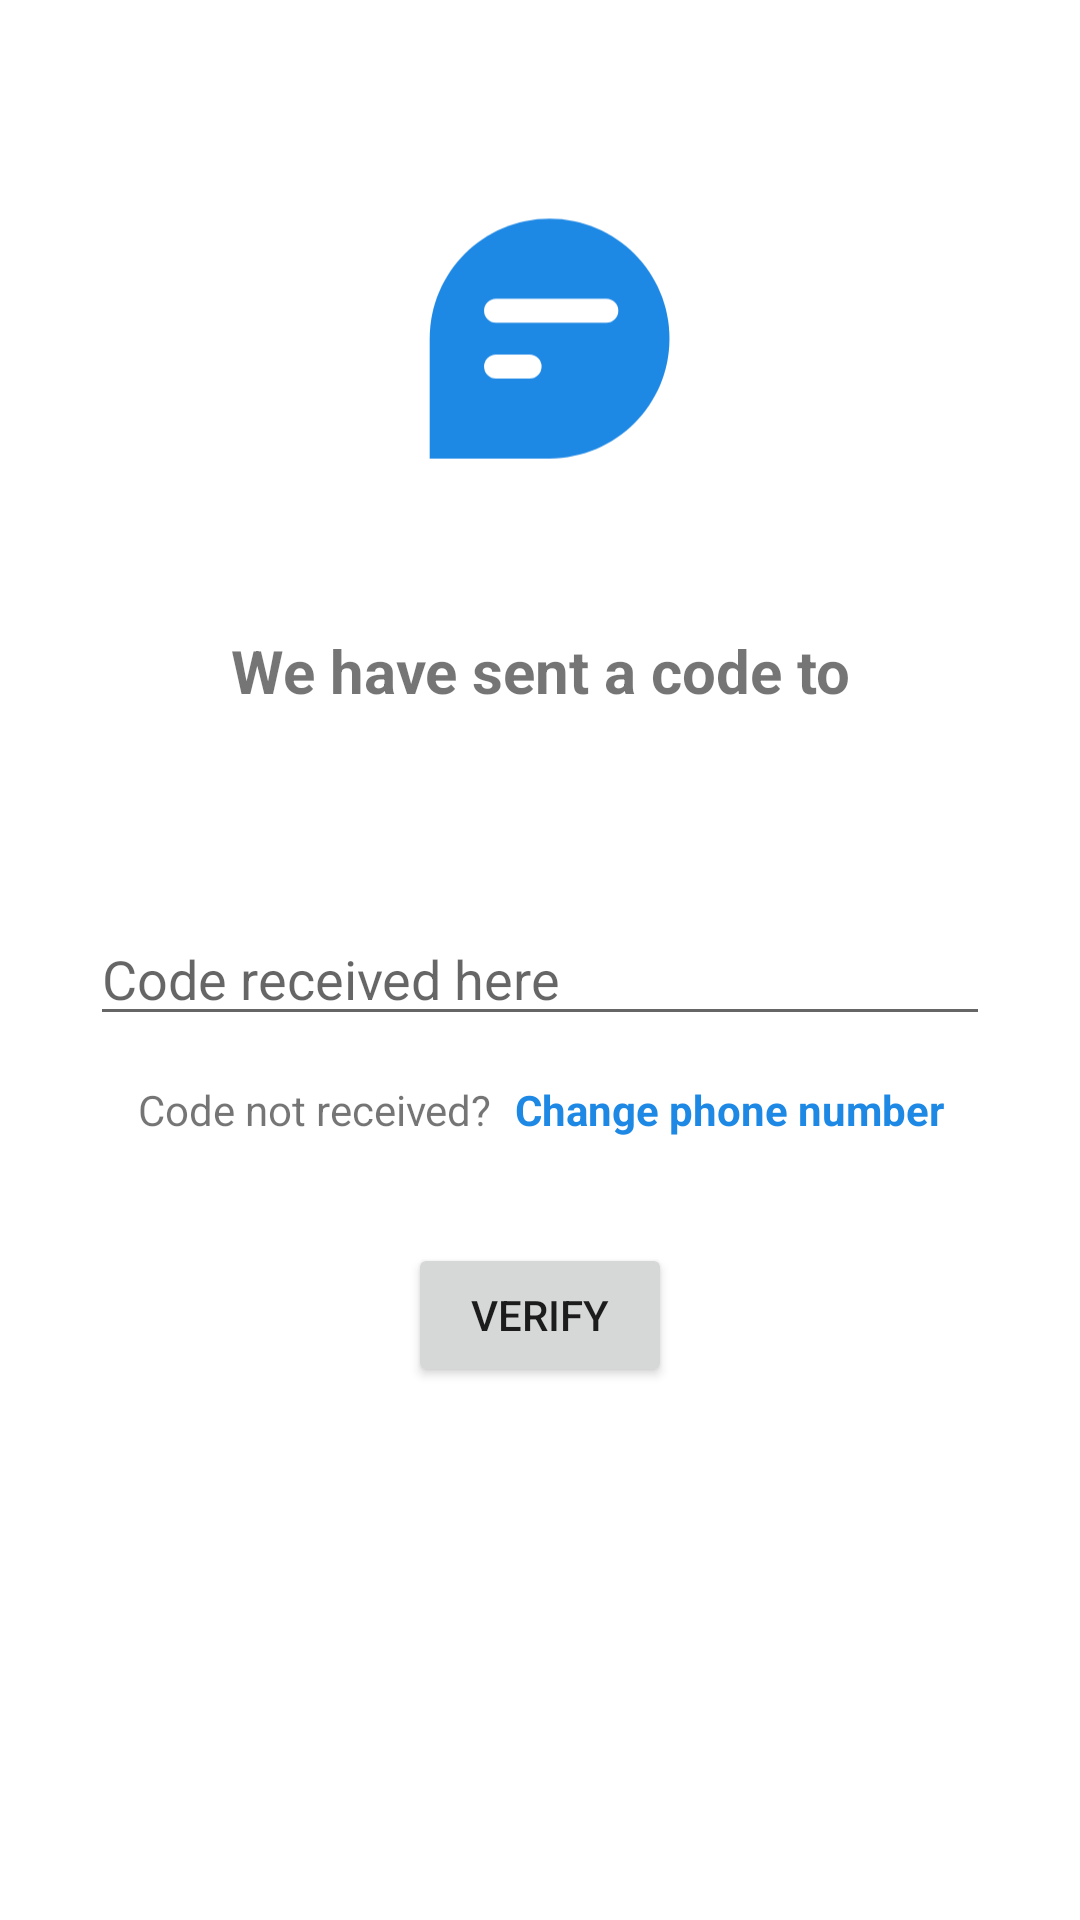

Locate icon controls on the screen. Image size 1080×1920, boxes as (x1, y1, x2, y2).
chat app: (429, 218, 670, 459)
